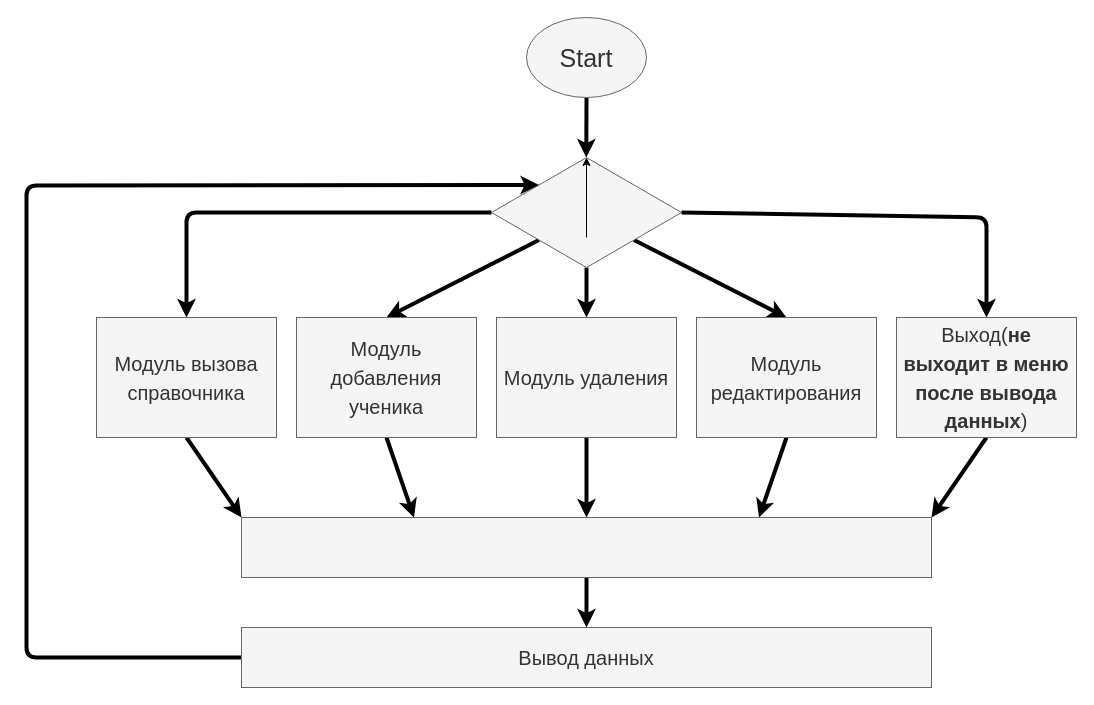
Some shapes in this 1094 by 705 pixel diagram are drawn without their labels. Here are the shapes that lost their labels. From the top down, the centre of each, then its label:
At (x=586, y=212): "Menu".
At (x=586, y=547): "Логирование".
